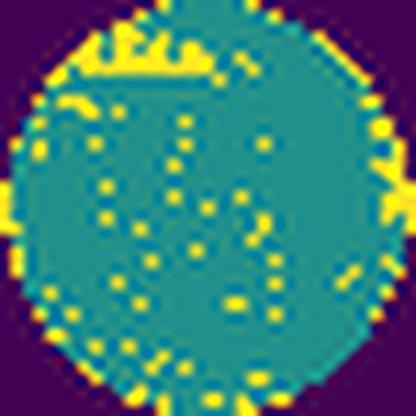Edge-Loc: (36, 14, 231, 89), (368, 112, 416, 242)
